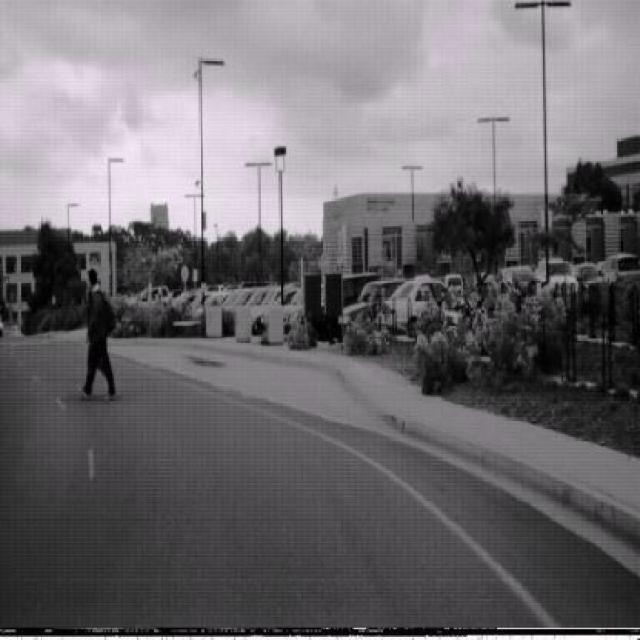stop: (317, 251, 329, 273), (88, 256, 99, 280)
